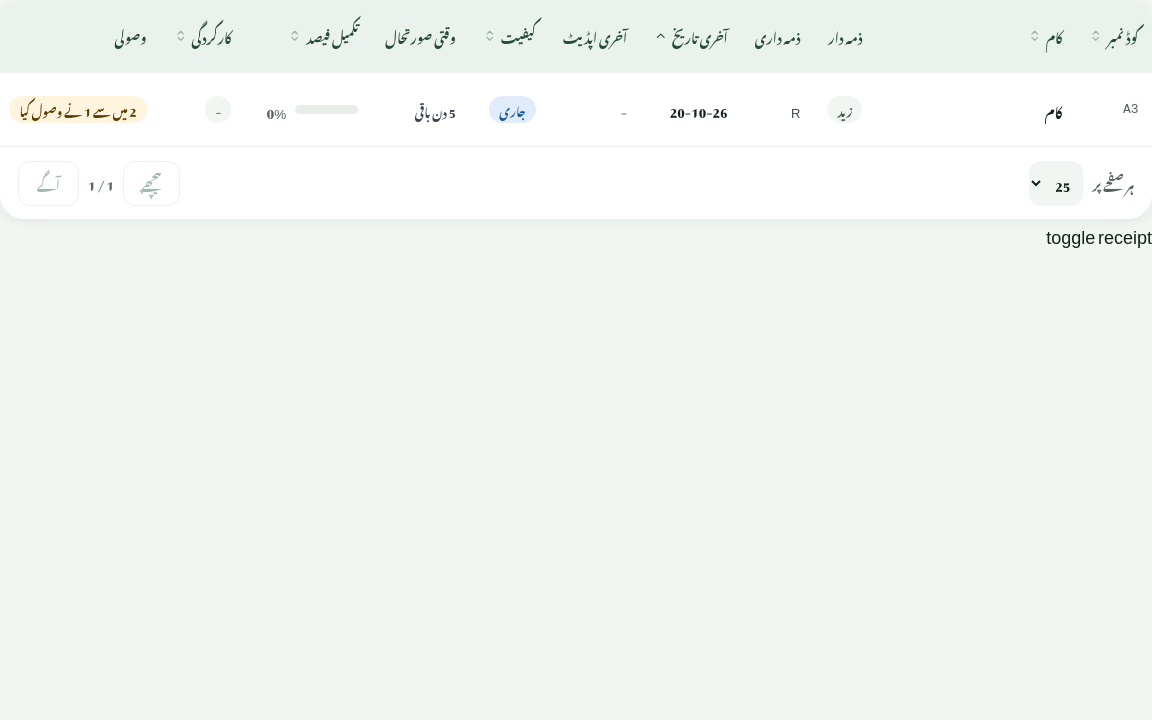
it: TaskTable — the "وصولی" column › admin: the chip opens a popover with names and times
The width and height of the screenshot is (1152, 720).
Click the button "2 میں سے 1 نے وصول کیا" at (78,110), box left=9, top=96, right=147, bottom=123
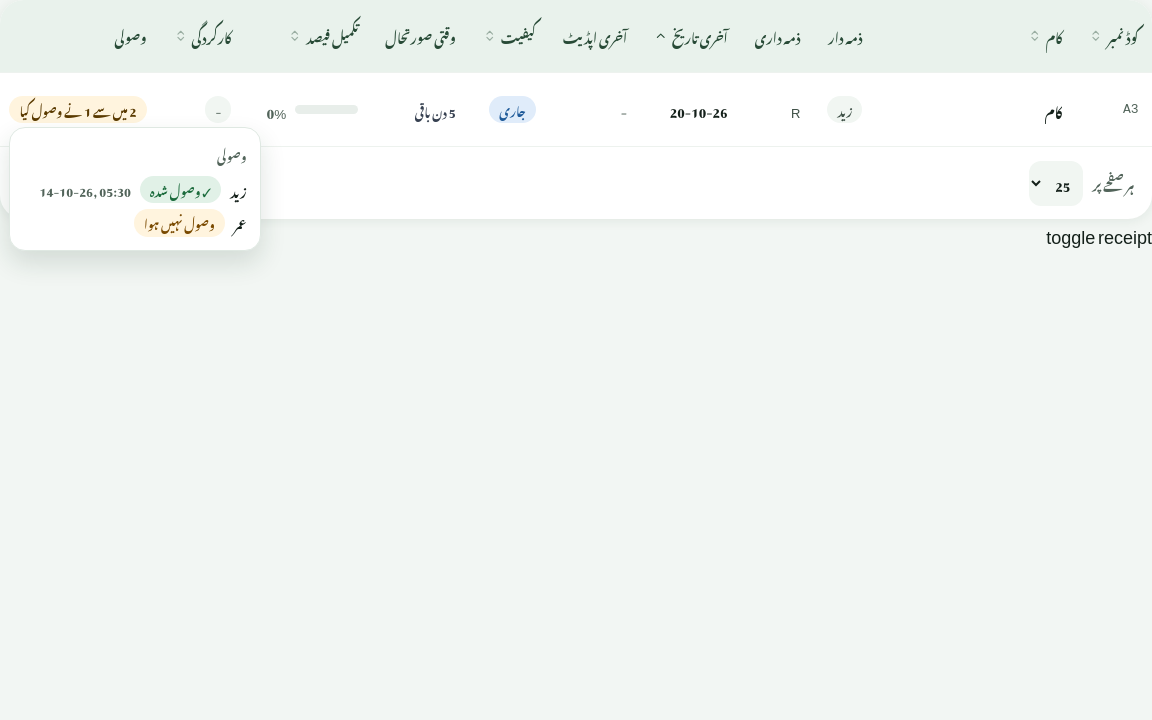
Now the dialog "وصولی" shows "زید", box left=230, top=173, right=246, bottom=206
Now the dialog "وصولی" shows "14-10-26", box left=40, top=174, right=131, bottom=204
Now the dialog "وصولی" shows "عمر", box left=234, top=206, right=246, bottom=239
